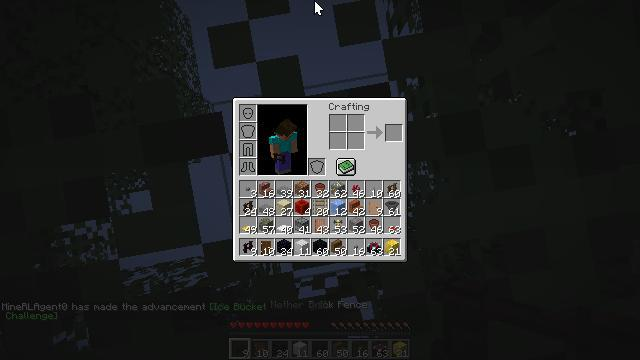cursor: (0, 314, 16, 324)
